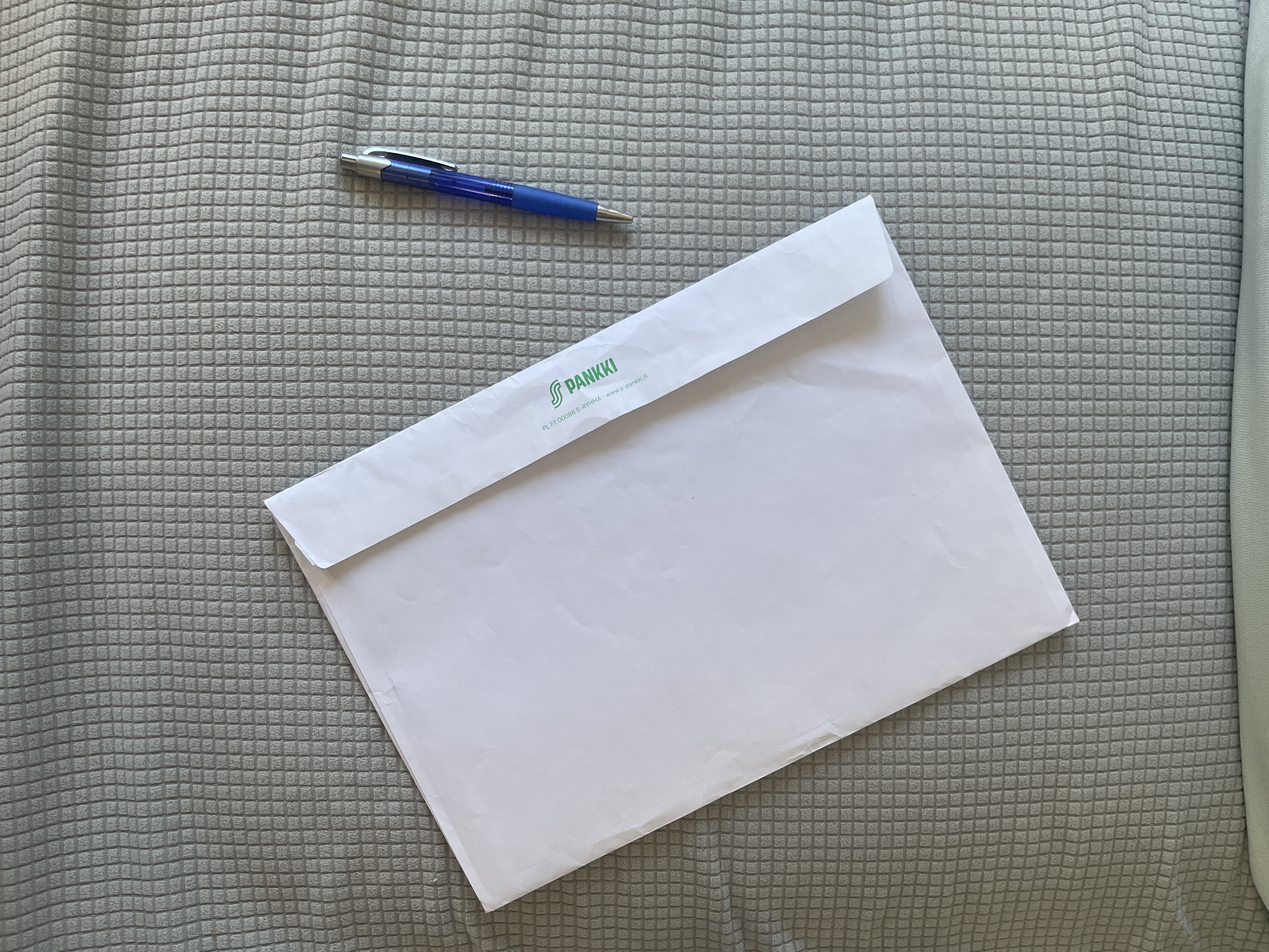paper: (260, 195, 1082, 916)
